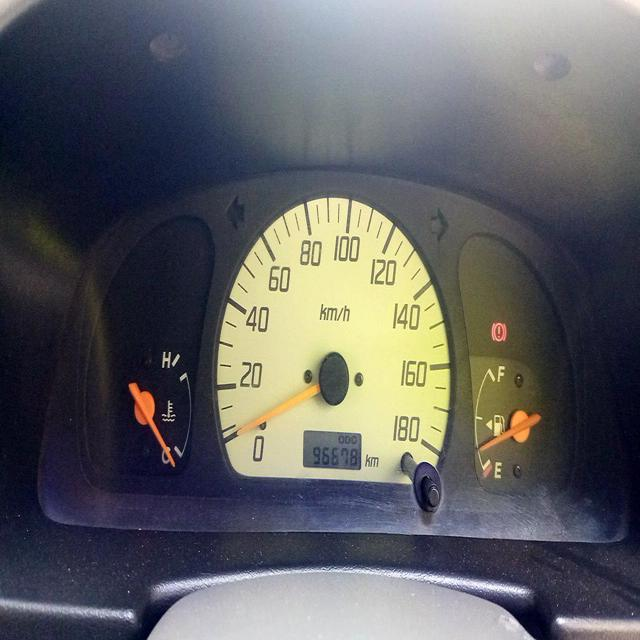odometer: (312, 442, 359, 467)
